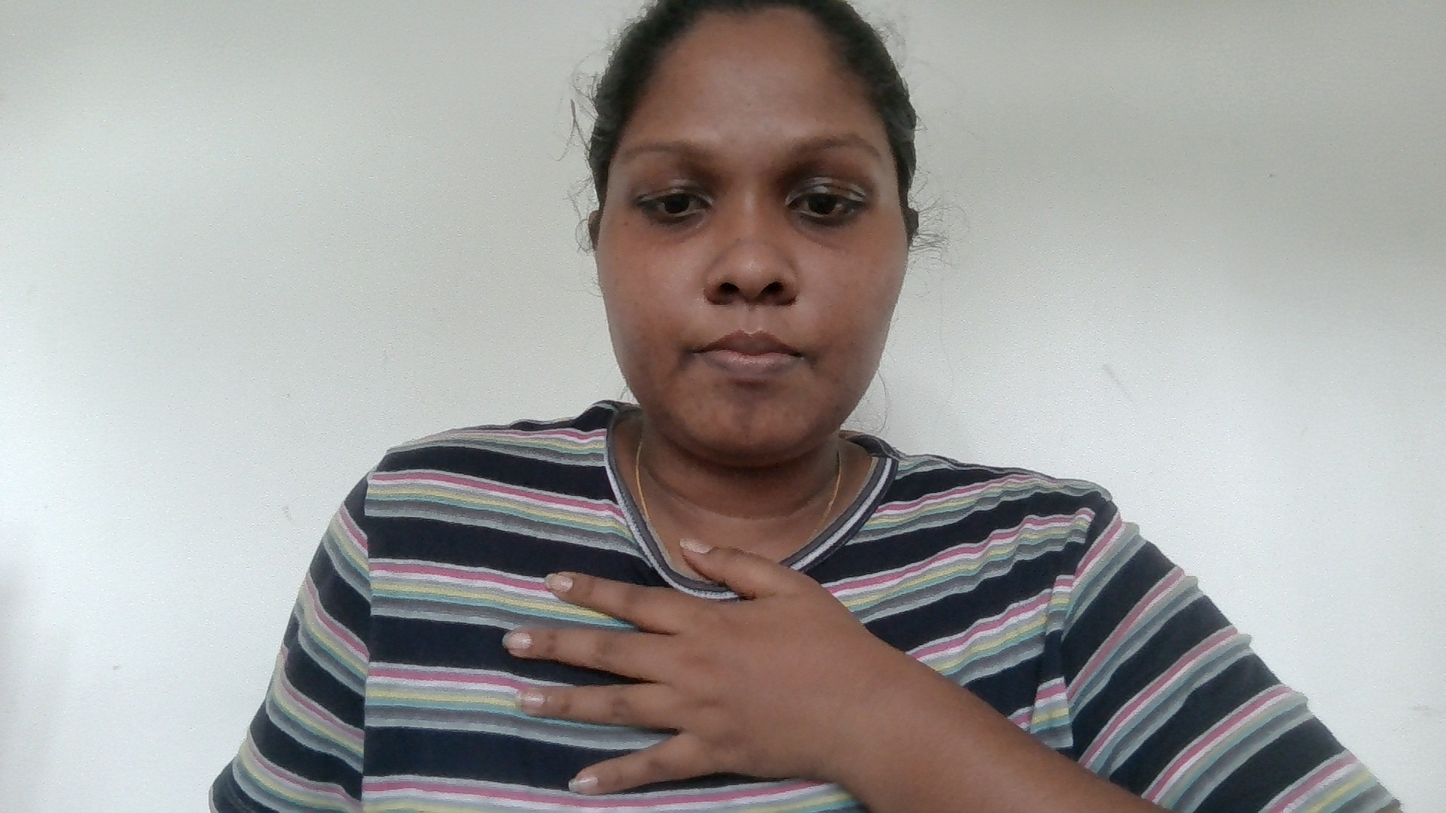Please: (505, 529, 919, 794)
